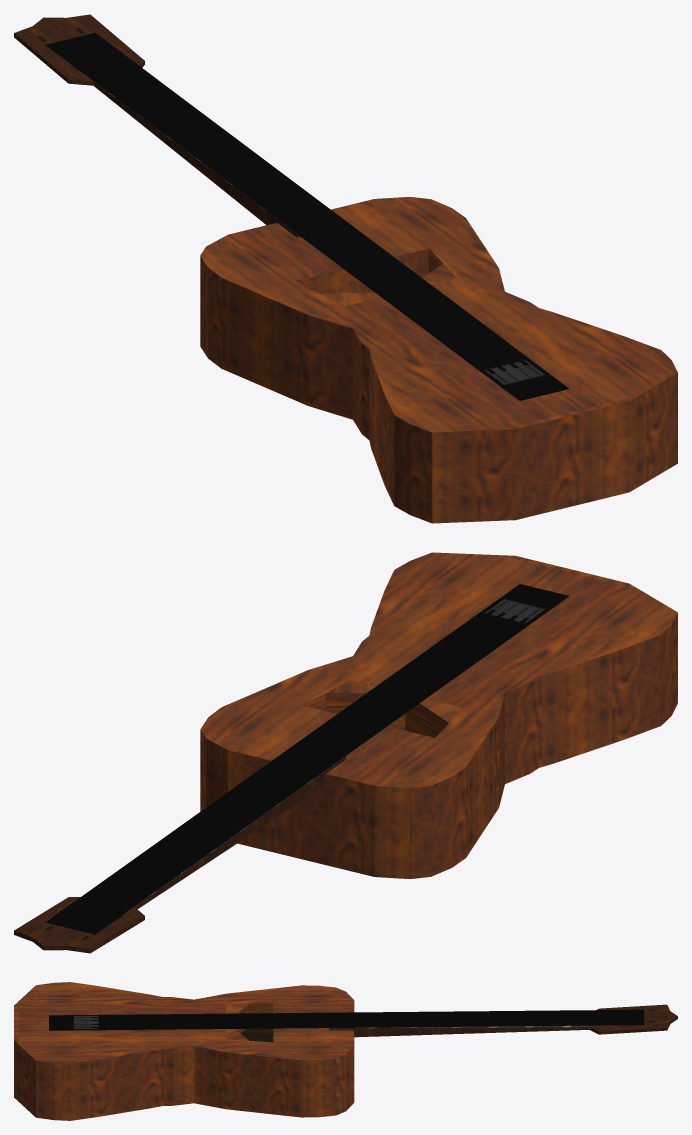
The model's file is ukulele.obj.
The picture shows the model from 3 angles, top to bottom: view 1: azimuth 30°, elevation 25°; view 2: azimuth 150°, elevation 25°; view 3: azimuth 270°, elevation 25°; orthographic projection. The views are drawn at different scales.
Parts seen in each view (by area): view 1: base_Cube.001, strings_Cube.003, hand_Cube.002; view 2: base_Cube.001, strings_Cube.003, hand_Cube.002; view 3: base_Cube.001, strings_Cube.003, hand_Cube.002.
Boxes of the visible parts, bbox=[...] form: base_Cube.001: bbox=[200, 197, 677, 523]; strings_Cube.003: bbox=[46, 33, 569, 400]; hand_Cube.002: bbox=[14, 14, 300, 237]; base_Cube.001: bbox=[200, 552, 677, 878]; strings_Cube.003: bbox=[45, 584, 568, 934]; hand_Cube.002: bbox=[14, 756, 346, 953]; base_Cube.001: bbox=[14, 982, 354, 1120]; strings_Cube.003: bbox=[49, 1009, 644, 1030]; hand_Cube.002: bbox=[329, 1004, 677, 1037].
Bounding box in the file's own units: 1.84 × 0.6703 × 6.32.
